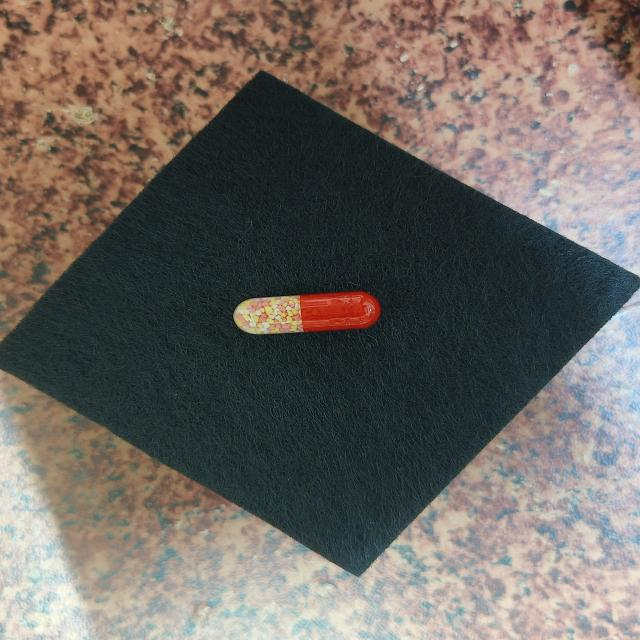Intact Capsule: (233, 291, 381, 335)
